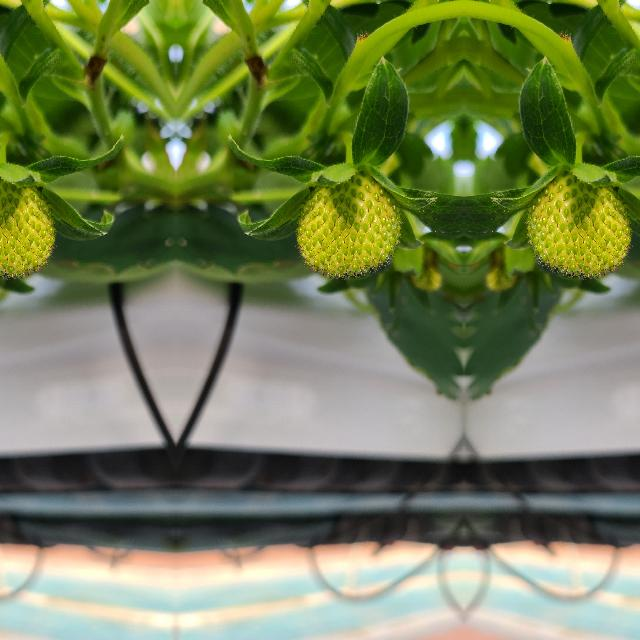Health_25: (294, 168, 402, 280), (524, 168, 632, 280), (0, 167, 56, 280)
